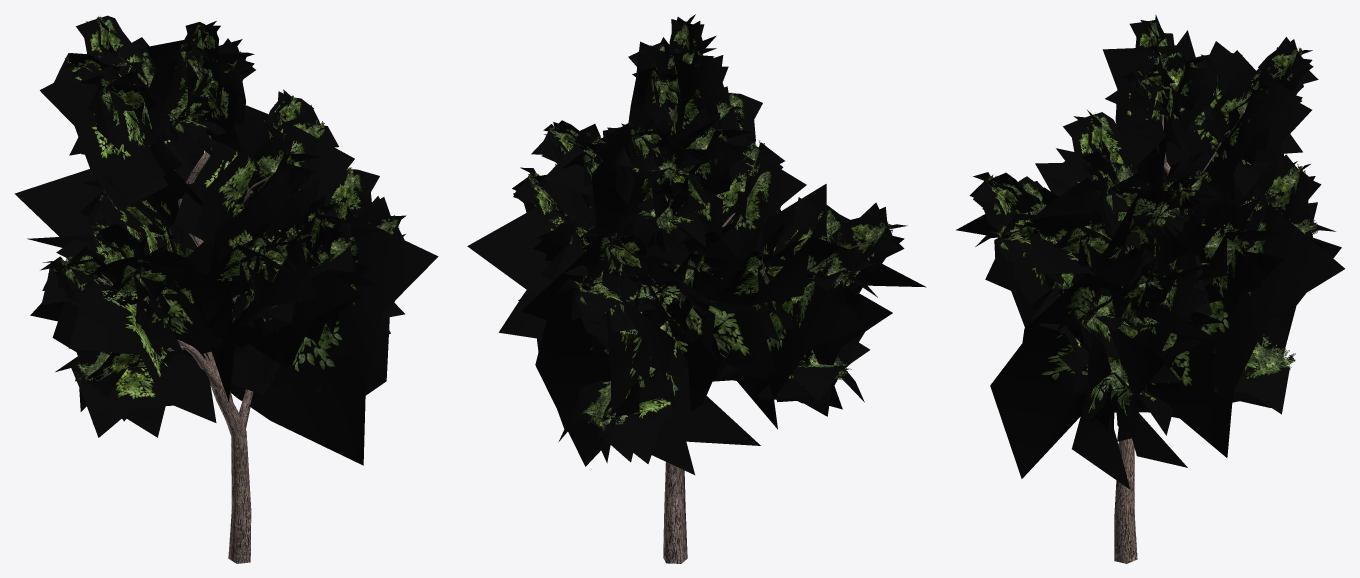
Rendered from TRP-TreeCommon_Green 02.FBX.
3 views of the same model, side by side, from view 1: azimuth 30°, elevation 25°; view 2: azimuth 150°, elevation 25°; view 3: azimuth 270°, elevation 25° (orthographic). The views are drawn at different scales.
Visible parts, largest first — view 1: First Tree_Low3 bx223, First Tree_Low3 bx221, First Tree_Low3 bx222; view 2: First Tree_Low3 bx223, First Tree_Low3 bx222, First Tree_Low3 bx221; view 3: First Tree_Low3 bx223, First Tree_Low3 bx222, First Tree_Low3 bx221.
Boxes of the visible parts, bbox=[...] form: First Tree_Low3 bx223: bbox=[14, 15, 438, 465]; First Tree_Low3 bx221: bbox=[88, 79, 342, 563]; First Tree_Low3 bx222: bbox=[48, 16, 399, 386]; First Tree_Low3 bx223: bbox=[467, 14, 926, 474]; First Tree_Low3 bx222: bbox=[528, 21, 892, 430]; First Tree_Low3 bx221: bbox=[538, 36, 873, 563]; First Tree_Low3 bx223: bbox=[956, 14, 1344, 489]; First Tree_Low3 bx222: bbox=[986, 21, 1318, 405]; First Tree_Low3 bx221: bbox=[1015, 27, 1281, 563].
Bounding box in the file's own units: 535 × 487 × 725.
Materials: 3 (3 with a texture image).
